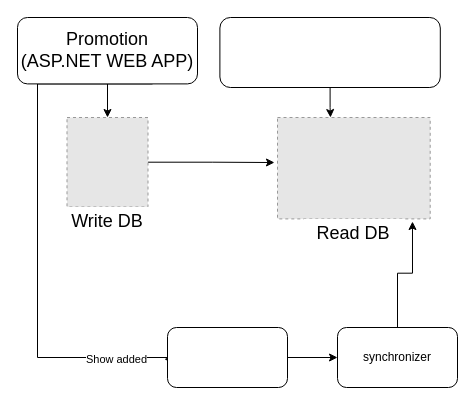
Image size: 475x405. Some labels were removed from this diagram. Grey dashed boxes stand in for pictures. Here are the shapes that lost their labels. From the top down, the box of each, then its label:
(219, 16, 440, 88): WebSales (ASP.NET WEB APP)
(166, 326, 288, 388): rabbitMQ
